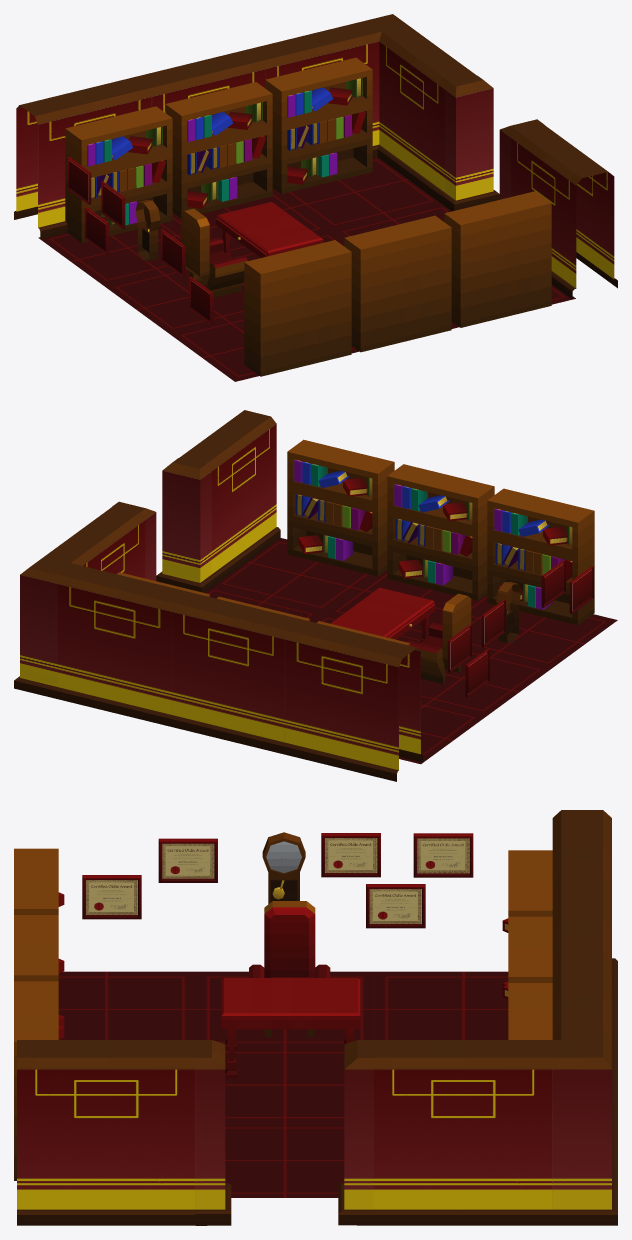
File: Stage1_Library.fbx
3 renders of one model, top to bottom at view 1: azimuth 30°, elevation 25°; view 2: azimuth 150°, elevation 25°; view 3: azimuth 270°, elevation 25°, orthographic. The views are drawn at different scales.
Visible parts, largest first — view 1: Floor_v4.004; view 2: Floor_v4.004; view 3: Floor_v4.004.
Boxes of the visible parts, <box> form: Floor_v4.004: <box>14,14,617,381</box>; Floor_v4.004: <box>14,410,617,781</box>; Floor_v4.004: <box>14,810,617,1225</box>.
Size of the model in its own units: 1010 by 300 by 1015.
